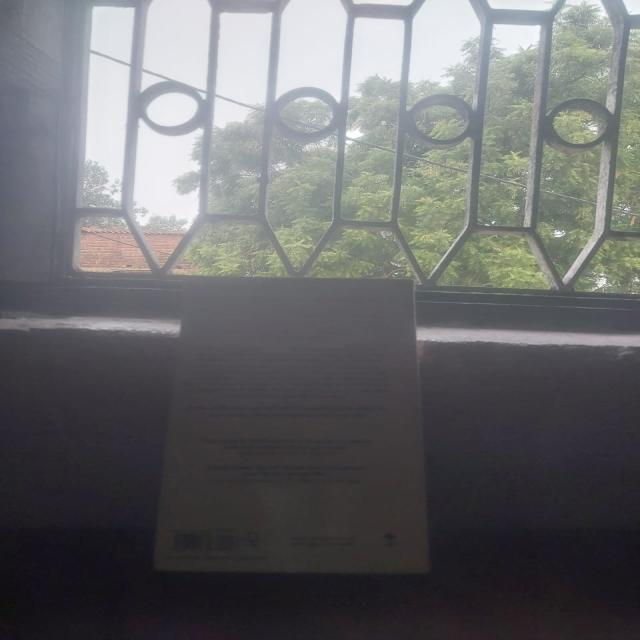Book: (156, 271, 437, 577)
